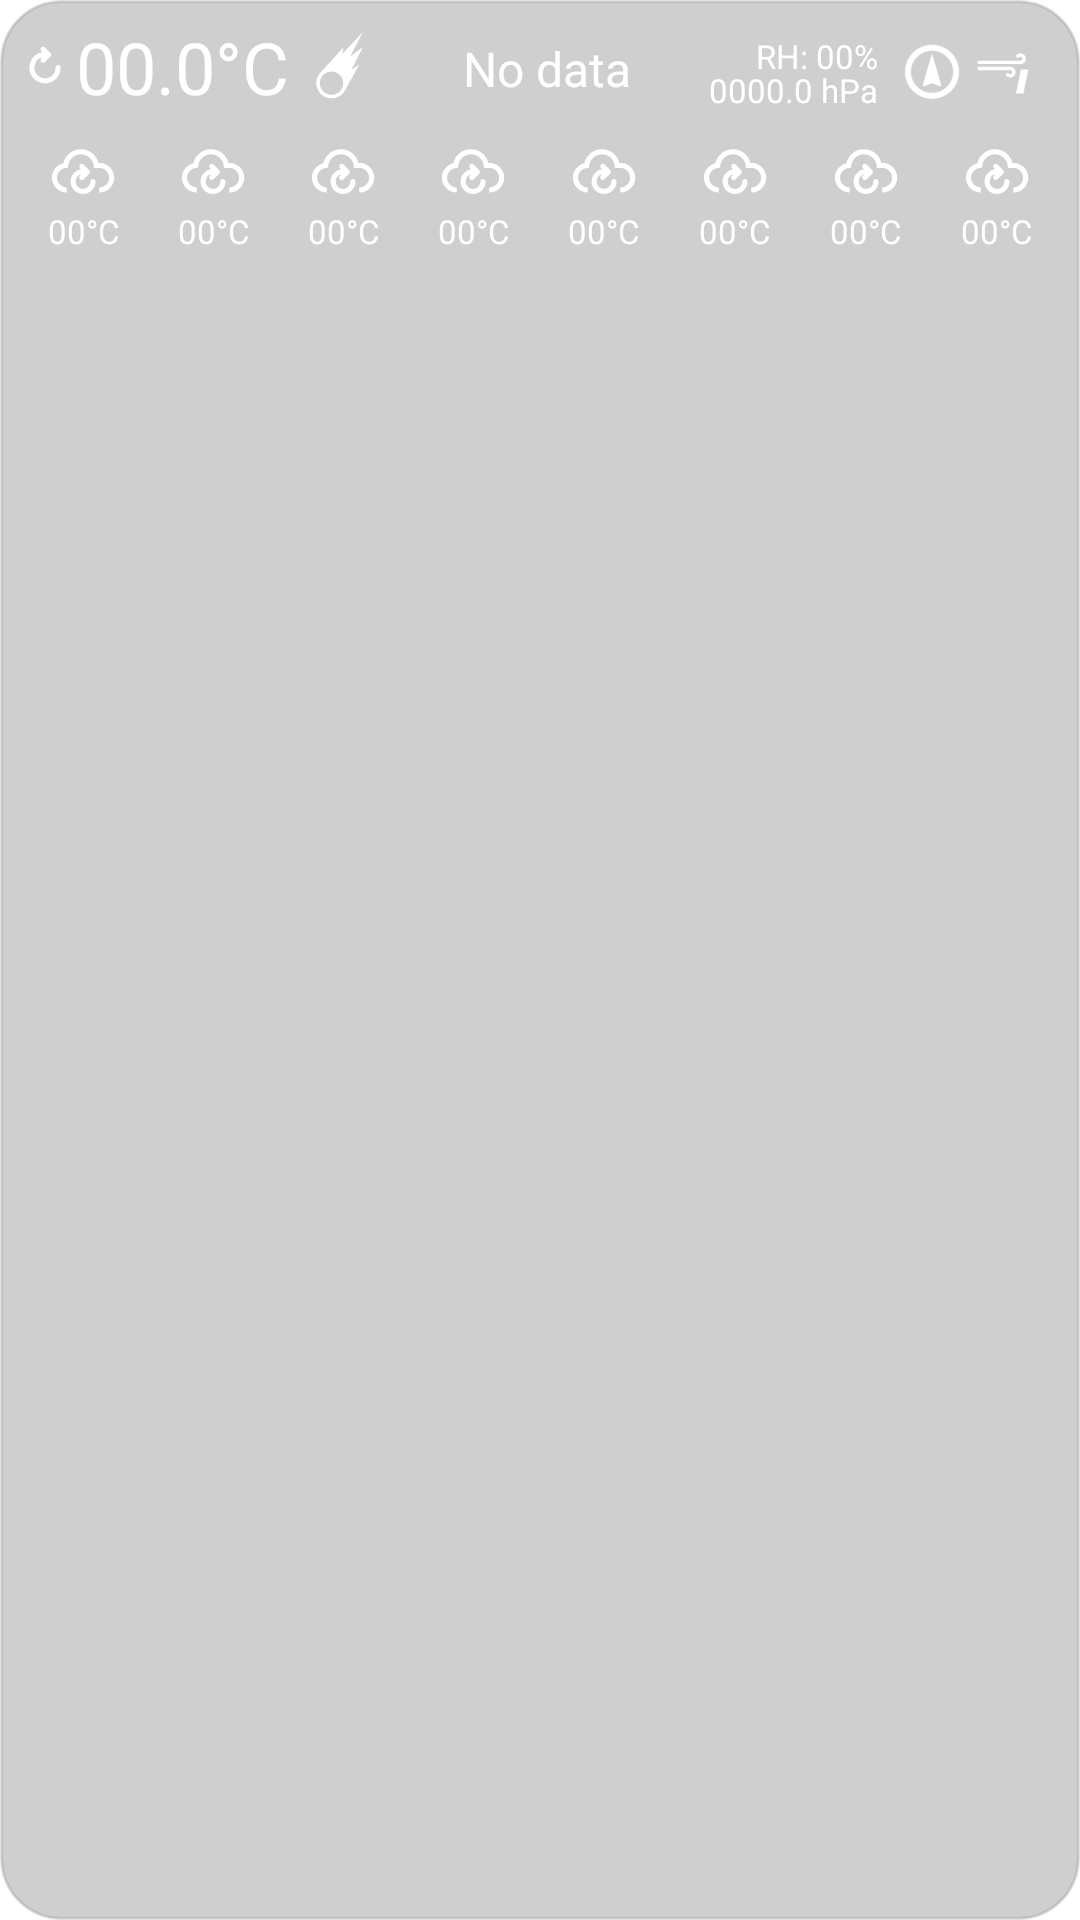

Icon bounding boxes for this 1080px x 1920px phone screenshot, format (x1, y1, x2, y2):
Weather state: (52, 149, 114, 194), (182, 149, 244, 194), (312, 149, 374, 194), (442, 149, 504, 194), (573, 149, 635, 194), (704, 149, 766, 194), (835, 149, 897, 194), (966, 149, 1028, 194)
wi meteor: (316, 33, 362, 98)
wi wind deg: (905, 45, 959, 99)
Wind speed: (977, 54, 1028, 93)
